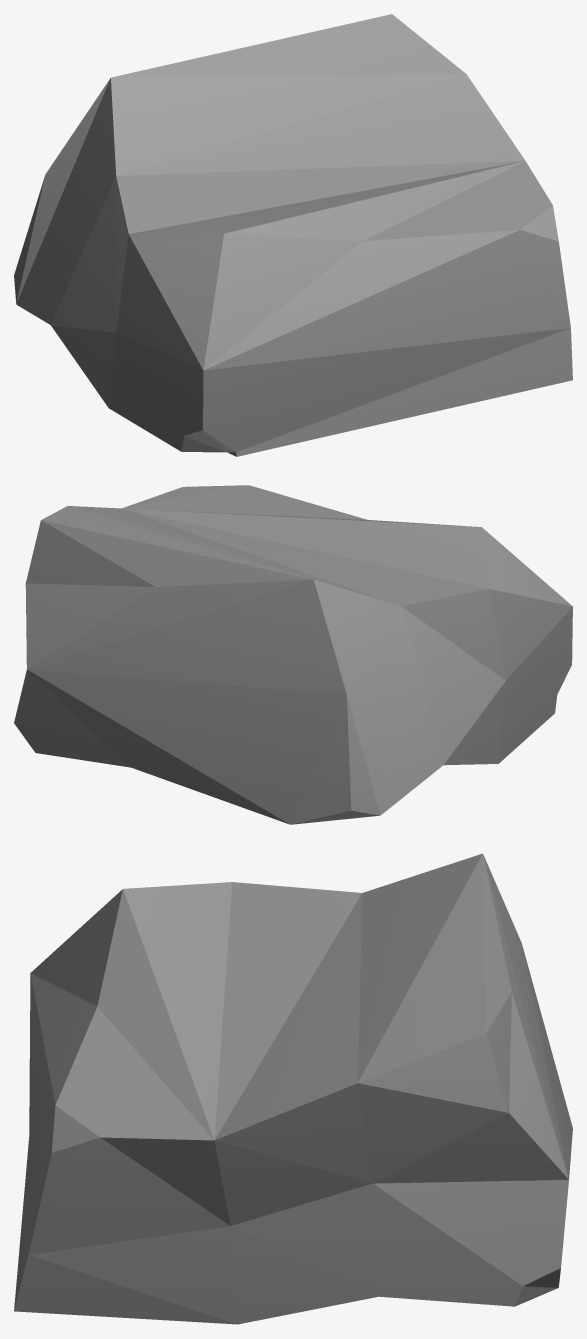
The model's file is stone small 7.fbx.
3 renders of one model, top to bottom at view 1: azimuth 30°, elevation 25°; view 2: azimuth 150°, elevation 25°; view 3: azimuth 270°, elevation 25°, orthographic. The views are drawn at different scales.
Parts seen in each view (by area): view 1: stone small 7; view 2: stone small 7; view 3: stone small 7.
Part boxes in pixels (bbox=[...]): stone small 7: bbox=[14, 14, 572, 456]; stone small 7: bbox=[14, 485, 572, 824]; stone small 7: bbox=[14, 853, 572, 1324].
Bounding box in the file's own units: 122 × 68.65 × 117.
